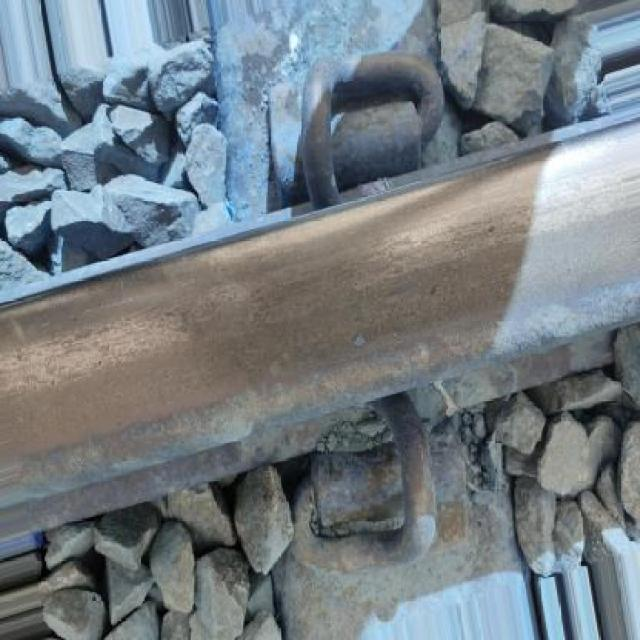non-defective: (10, 108, 640, 578)
